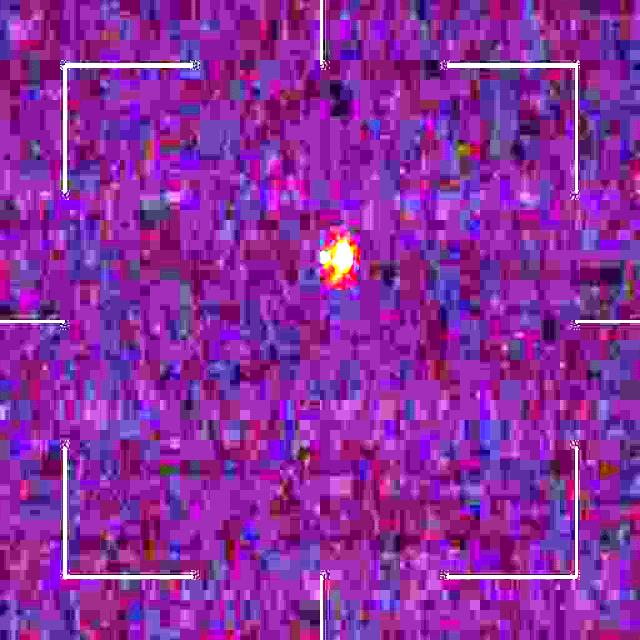bird: (318, 239, 356, 288)
